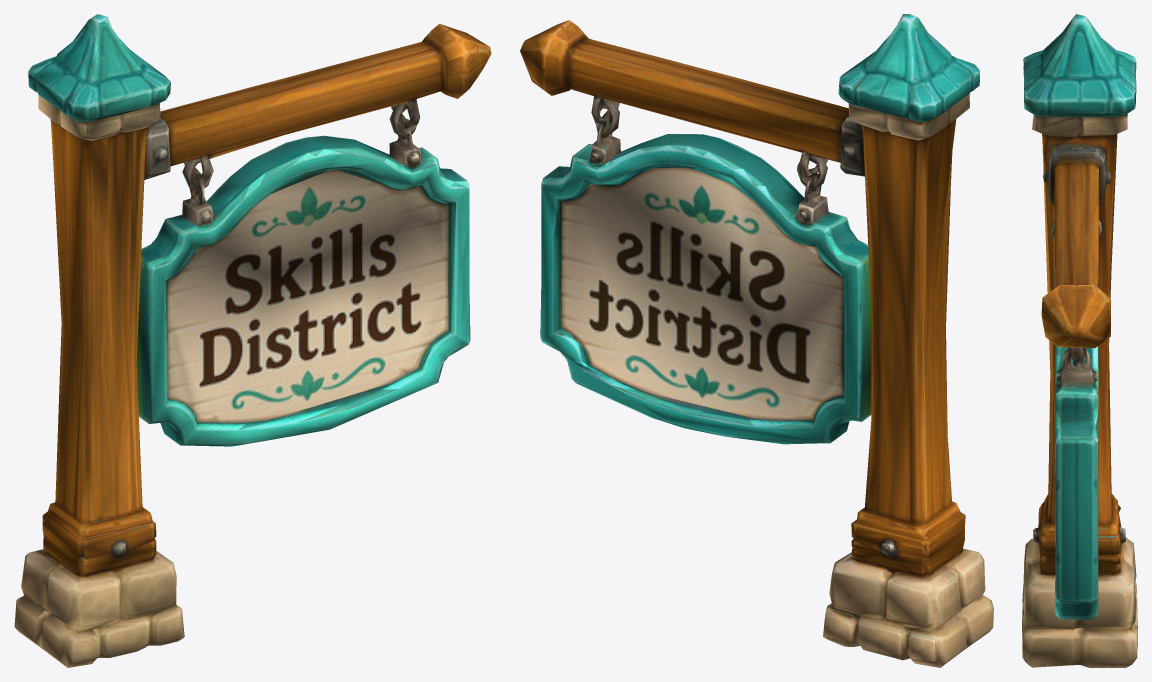
Rendered from sign-skills.glb.
3 renders of one model, left to right at view 1: azimuth 30°, elevation 25°; view 2: azimuth 150°, elevation 25°; view 3: azimuth 270°, elevation 25°, orthographic.
Parts seen in each view (by area): view 1: Mesh1.0; view 2: Mesh1.0; view 3: Mesh1.0.
Part boxes in pixels (x1,y1,x2,y2): Mesh1.0: [14, 14, 491, 667]; Mesh1.0: [520, 14, 993, 667]; Mesh1.0: [1022, 14, 1137, 667].
Size of the model in its own units: 1.44 by 1.9 by 0.3196.
1 material, 1 textured.
